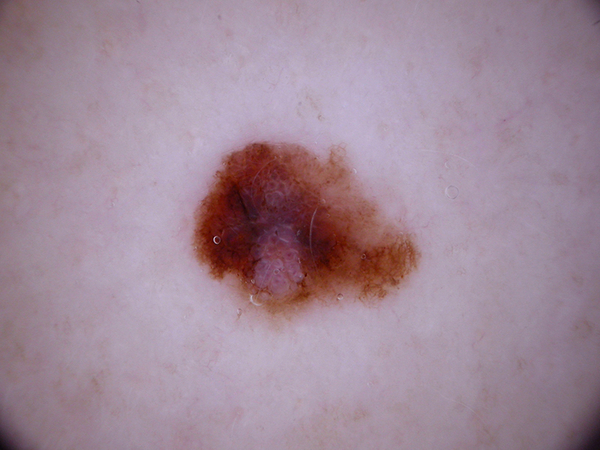Detected Lesion: (185, 132, 427, 320)
